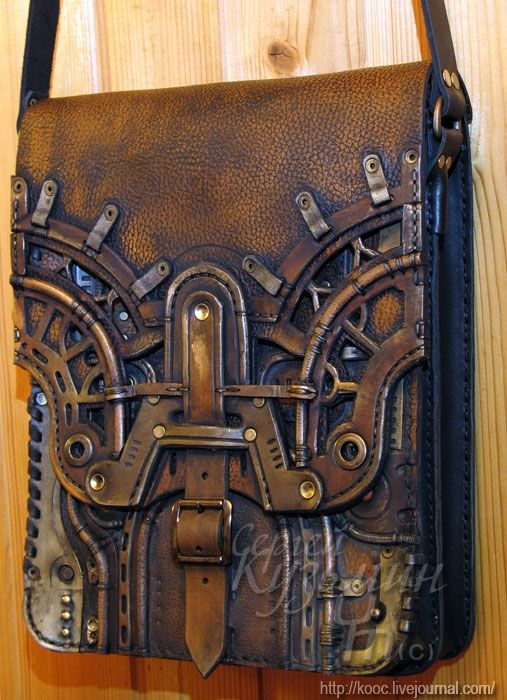cuero: (13, 1, 474, 675)
